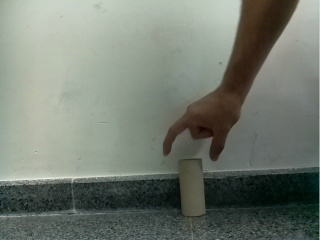rollo papel: (177, 158, 206, 217)
